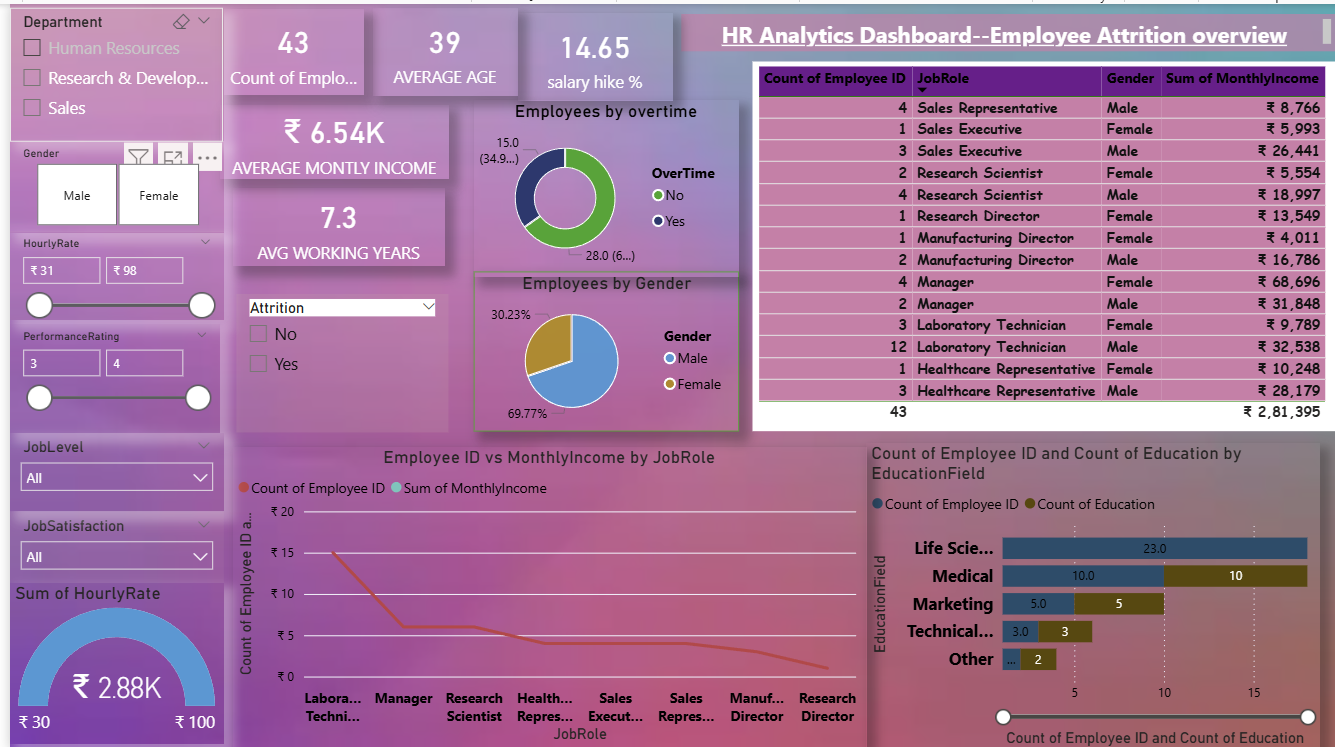

What the dashboard file says about the page in this screenshot:
{"tool":"powerbi","page":{"name":"Page 1","canvas":[1280,720],"ordinal":0},"visuals":[{"type":"pieChart","title":"Employees by Gender","fields":{"Category":["HR-Employee-Attrition.Gender"],"Y":["CountNonNull(HR-Employee-Attrition.Employee ID)"]},"box":[447.6,258.2,255.8,154.4],"z":0},{"type":"barChart","fields":{"Category":["HR-Employee-Attrition.EducationField"],"Y":["CountNonNull(HR-Employee-Attrition.Employee ID)","CountNonNull(HR-Employee-Attrition.Education)"]},"box":[826.4,423.5,437.9,296.8],"z":1000},{"type":"donutChart","title":"Employees by overtime","fields":{"Y":["CountNonNull(HR-Employee-Attrition.Employee ID)"],"Category":["HR-Employee-Attrition.OverTime"]},"box":[447.6,92.9,255.8,170.1],"z":2000},{"type":"lineChart","title":"Employee ID vs    MonthlyIncome by JobRole","fields":{"Category":["HR-Employee-Attrition.JobRole"],"Y":["CountNonNull(HR-Employee-Attrition.Employee ID)","Sum(HR-Employee-Attrition.MonthlyIncome)"]},"box":[214.7,427.1,611.7,290.8],"z":3000},{"type":"tableEx","fields":{"Values":["CountNonNull(HR-Employee-Attrition.Employee ID)","HR-Employee-Attrition.JobRole","HR-Employee-Attrition.Gender","Sum(HR-Employee-Attrition.MonthlyIncome)"]},"box":[716.6,55.5,563.4,357.1],"z":4000},{"type":"card","fields":{"Values":["HR-Employee-Attrition.AVERAGE MONTLY INCOME"]},"box":[202.7,97.7,220.8,71.2],"z":5000},{"type":"card","fields":{"Values":["HR-Employee-Attrition.AVERAGE AGE"]},"box":[349.9,3.6,139.9,84.5],"z":6000},{"type":"textbox","box":[647.9,9.7,632.2,36.2],"z":7000},{"type":"card","fields":{"Values":["HR-Employee-Attrition.salary hike"]},"box":[489.8,8.4,149.6,84.5],"z":8000},{"type":"card","fields":{"Values":["CountNonNull(HR-Employee-Attrition.Employee ID)"]},"box":[206.3,4.8,135.1,83.2],"z":10000},{"type":"card","fields":{"Values":["HR-Employee-Attrition.AVG WORKING YEARS"]},"box":[214.7,177.3,205.1,76],"z":11000},{"type":"slicer","fields":{"Values":["Department.Department"]},"box":[0,3.6,206.3,129.1],"z":12000},{"type":"slicer","fields":{"Values":["HR-Employee-Attrition.Gender"]},"box":[0,132.7,206.3,88.1],"z":13000},{"type":"slicer","fields":{"Values":["HR-Employee-Attrition.JobSatisfaction"]},"box":[0,489.8,206.3,68.8],"z":14000},{"type":"slicer","fields":{"Values":["HR-Employee-Attrition.JobLevel"]},"box":[0,413.8,206.3,76],"z":15000},{"type":"slicer","fields":{"Values":["HR-Employee-Attrition.HourlyRate"]},"box":[0,219.6,206.3,85.7],"z":16000},{"type":"slicer","fields":{"Values":["HR-Employee-Attrition.PerformanceRating"]},"box":[0,308.8,202.7,105],"z":17000},{"type":"gauge","fields":{"Y":["Sum(HR-Employee-Attrition.HourlyRate)"]},"box":[0,558.6,206.3,155.6],"z":17001},{"type":"slicer","fields":{"Values":["HR-Employee-Attrition.Attrition"]},"box":[218.4,279.9,205.1,133.9],"z":17002}]}

Visuals, with their boxes on the page's 1280x720 design canvas (x1, y1, x2, y2). These are canvas units, not pixel positions in the 1335x747 screenshot, which may show the page scaled, cropped or inside an application window:
"Employees by Gender" pieChart: [left=448, top=258, right=703, bottom=413]
barChart - HR-Employee-Attrition.EducationField x CountNonNull(HR-Employee-Attrition.Employee ID): [left=826, top=424, right=1264, bottom=720]
"Employees by overtime" donutChart: [left=448, top=93, right=703, bottom=263]
"Employee ID vs    MonthlyIncome by JobRole" lineChart: [left=215, top=427, right=826, bottom=718]
tableEx - CountNonNull(HR-Employee-Attrition.Employee ID) x HR-Employee-Attrition.JobRole: [left=717, top=56, right=1280, bottom=413]
card - HR-Employee-Attrition.AVERAGE MONTLY INCOME: [left=203, top=98, right=424, bottom=169]
card - HR-Employee-Attrition.AVERAGE AGE: [left=350, top=4, right=490, bottom=88]
textbox: [left=648, top=10, right=1280, bottom=46]
card - HR-Employee-Attrition.salary hike: [left=490, top=8, right=639, bottom=93]
card - CountNonNull(HR-Employee-Attrition.Employee ID): [left=206, top=5, right=341, bottom=88]
card - HR-Employee-Attrition.AVG WORKING YEARS: [left=215, top=177, right=420, bottom=253]
slicer - Department.Department: [left=0, top=4, right=206, bottom=133]
slicer - HR-Employee-Attrition.Gender: [left=0, top=133, right=206, bottom=221]
slicer - HR-Employee-Attrition.JobSatisfaction: [left=0, top=490, right=206, bottom=559]
slicer - HR-Employee-Attrition.JobLevel: [left=0, top=414, right=206, bottom=490]
slicer - HR-Employee-Attrition.HourlyRate: [left=0, top=220, right=206, bottom=305]
slicer - HR-Employee-Attrition.PerformanceRating: [left=0, top=309, right=203, bottom=414]
gauge - Sum(HR-Employee-Attrition.HourlyRate): [left=0, top=559, right=206, bottom=714]
slicer - HR-Employee-Attrition.Attrition: [left=218, top=280, right=424, bottom=414]
